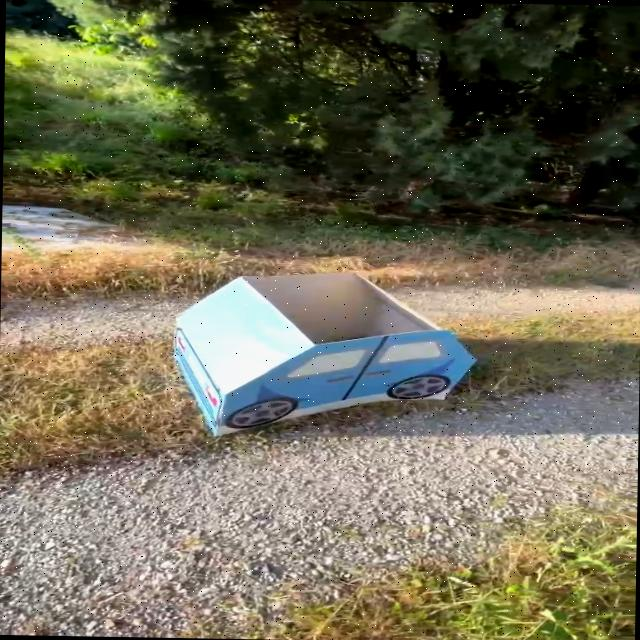blue_car: (134, 250, 524, 479)
